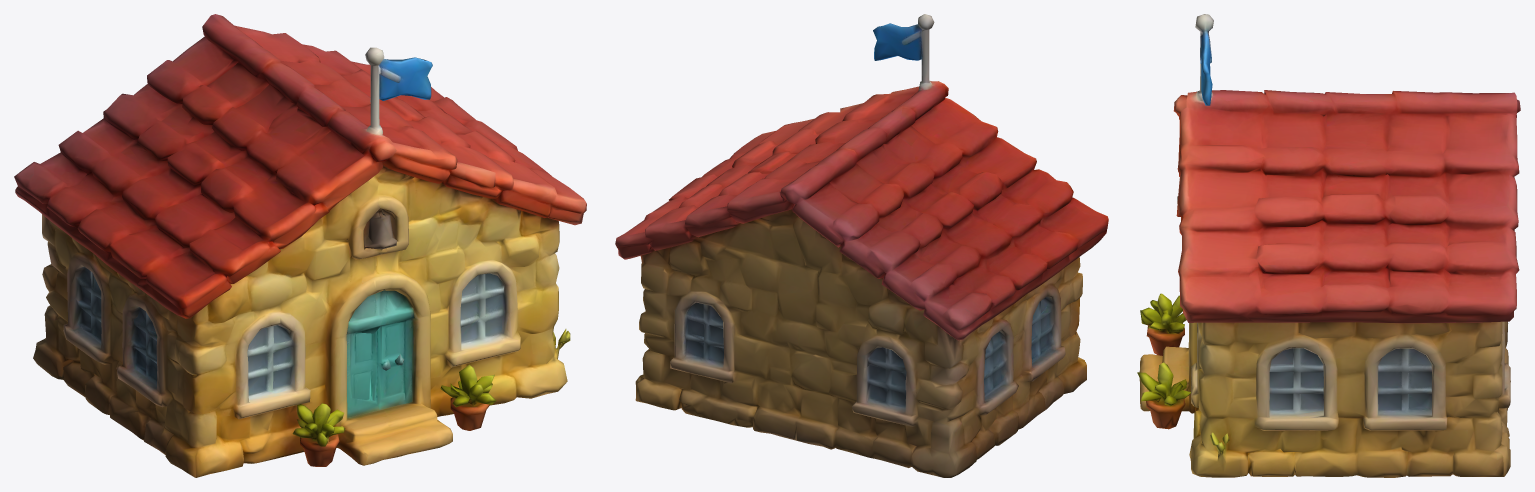
The model's file is school.glb.
3 views of the same model, side by side, from view 1: azimuth 30°, elevation 25°; view 2: azimuth 150°, elevation 25°; view 3: azimuth 270°, elevation 25° (orthographic). The views are drawn at different scales.
Parts seen in each view (by area): view 1: tripo_node_6d3f4416-1090-45a7-afe2-54afaab62e38; view 2: tripo_node_6d3f4416-1090-45a7-afe2-54afaab62e38; view 3: tripo_node_6d3f4416-1090-45a7-afe2-54afaab62e38.
Part boxes in pixels (<box>): tripo_node_6d3f4416-1090-45a7-afe2-54afaab62e38: <box>14,14,586,477</box>; tripo_node_6d3f4416-1090-45a7-afe2-54afaab62e38: <box>615,14,1108,477</box>; tripo_node_6d3f4416-1090-45a7-afe2-54afaab62e38: <box>1137,14,1520,477</box>.
Bounding box in the file's own units: 1 × 0.8923 × 0.8236.
1 material, 1 textured.
